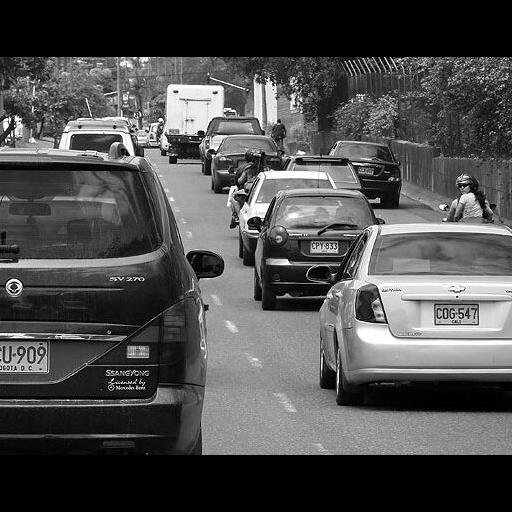placa: (0, 341, 48, 374), (434, 304, 478, 325), (310, 242, 338, 254), (358, 167, 374, 175)
